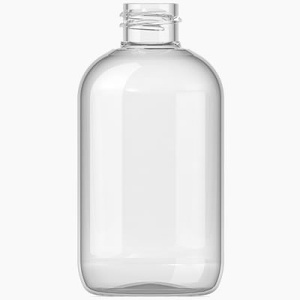emptybottle: (78, 2, 223, 296)
